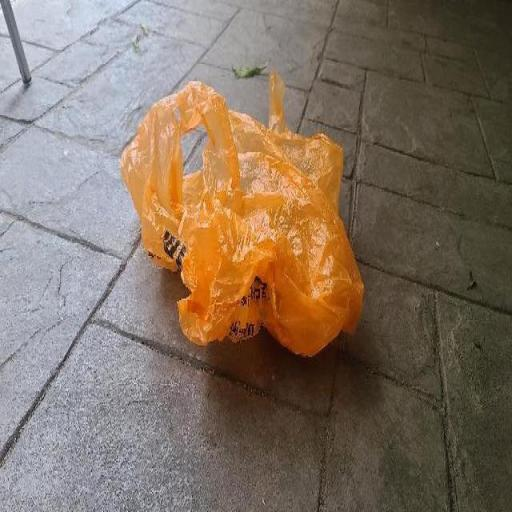plastic-bag: (119, 66, 366, 360)
